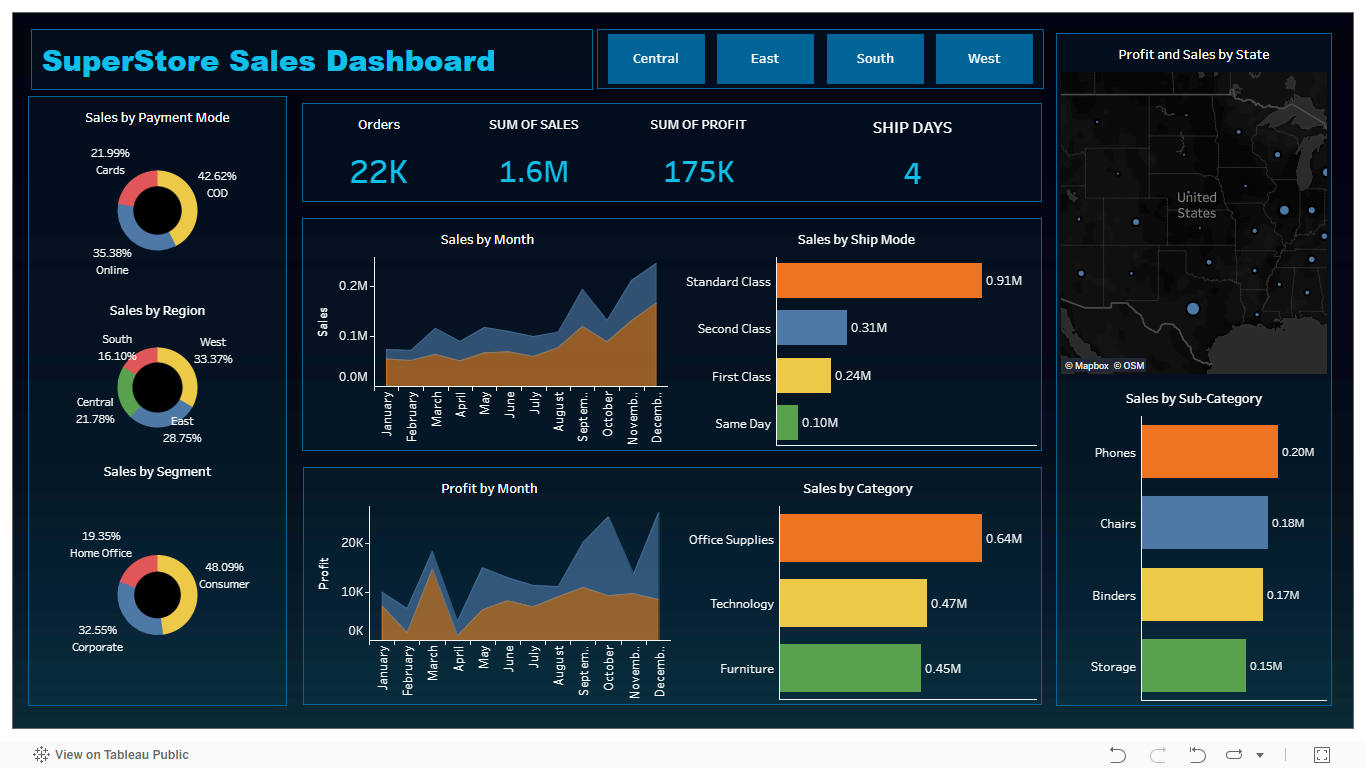

Layout of this report page (visuals, bound fields, positions):
{"tool":"tableau","page":{"name":"SuperStore Dashboard","canvas":[1000,1000],"units":"permille","ordinal":0},"visuals":[{"type":"image","param":"Image/blue gradient.jpg","box":[6,13.5,988.1,973]},{"type":"text","box":[22.4,38.9,412,82.8]},{"type":"worksheet","title":"Filter Buttons","mark":"Automatic","rows":["Calculation_280630587341385736"],"cols":["Region"],"box":[437.9,40.5,325.2,77.7]},{"type":"worksheet","title":"Profit and Sales by State","mark":"Automatic","box":[773.6,45.6,200.5,581.1]},{"type":"worksheet","title":"Sales by Payment Mode","mark":"Pie","rows":["Calculation_280630587248394241","Calculation_280630587248394241"],"box":[21.4,131.8,187.9,326]},{"type":"worksheet","title":"SUM OF ORDERS(QUANTITY)","mark":"Automatic","box":[221.6,140.2,113.4,130.1]},{"type":"worksheet","title":"SUM OF SALES","mark":"Automatic","box":[335,140.2,117.9,130.1]},{"type":"worksheet","title":"SUM OF PROFIT","mark":"Automatic","box":[452.9,140.2,127.6,130.1]},{"type":"worksheet","title":"SHIP DAYS","mark":"Automatic","box":[580.5,140.2,181.7,130.1]},{"type":"worksheet","title":"Sales by Month","mark":"Area","rows":["Sales"],"cols":["Order Date"],"box":[221.6,295.6,275.4,310.8]},{"type":"worksheet","title":"Sales by Ship Mode","mark":"Automatic","rows":["Ship Mode"],"cols":["Sales"],"box":[496.9,295.6,265.3,310.8]},{"type":"worksheet","title":"Sales by Region","mark":"Pie","rows":["Calculation_280630587248394241","Calculation_280630587248394241"],"box":[21.4,457.8,187.9,272]},{"type":"worksheet","title":"Sales by Sub-Category","mark":"Automatic","rows":["Sub-Category"],"cols":["Sales"],"box":[773.6,626.7,200.5,324.3]},{"type":"worksheet","title":"Profit by Month","mark":"Area","rows":["Profit"],"cols":["Order Date"],"box":[222.5,631.8,276.9,317.6]},{"type":"worksheet","title":"Sales by Category","mark":"Automatic","rows":["Category"],"cols":["Sales"],"box":[499.3,631.8,262.9,317.6]},{"type":"worksheet","title":"Sales by Segment","mark":"Pie","rows":["Calculation_280630587248394241","Calculation_280630587248394241"],"box":[21.4,729.7,187.9,221.3]}]}

Visuals, with their boxes on the dashboard's canvas, which has no fixed pixel size, in thousandths of its width and height (x1, y1, x2, y2). These are canvas units, not pixel positions in the 1366x768 screenshot, which may show the page scaled, cropped or inside an application window:
image: (6, 14, 994, 986)
text: (22, 39, 434, 122)
"Filter Buttons" worksheet: (438, 40, 763, 118)
"Profit and Sales by State" worksheet: (774, 46, 974, 627)
"Sales by Payment Mode" worksheet (Pie marks): (21, 132, 209, 458)
"SUM OF ORDERS(QUANTITY)" worksheet: (222, 140, 335, 270)
"SUM OF SALES" worksheet: (335, 140, 453, 270)
"SUM OF PROFIT" worksheet: (453, 140, 580, 270)
"SHIP DAYS" worksheet: (580, 140, 762, 270)
"Sales by Month" worksheet (Area marks): (222, 296, 497, 606)
"Sales by Ship Mode" worksheet: (497, 296, 762, 606)
"Sales by Region" worksheet (Pie marks): (21, 458, 209, 730)
"Sales by Sub-Category" worksheet: (774, 627, 974, 951)
"Profit by Month" worksheet (Area marks): (222, 632, 499, 949)
"Sales by Category" worksheet: (499, 632, 762, 949)
"Sales by Segment" worksheet (Pie marks): (21, 730, 209, 951)
